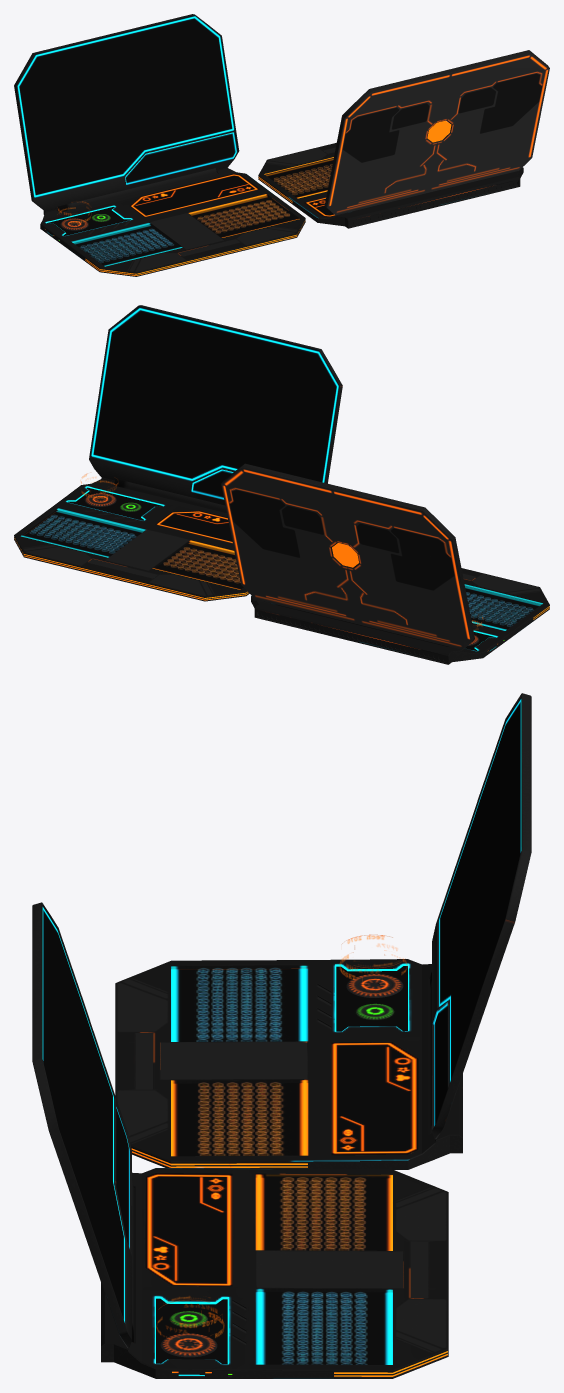
Rendered from lappy.glb.
The picture shows the model from 3 angles, top to bottom: view 1: azimuth 30°, elevation 25°; view 2: azimuth 150°, elevation 25°; view 3: azimuth 270°, elevation 25°; orthographic projection. The views are drawn at different scales.
Parts seen in each view (by area): view 1: R3D_Laptop2_pPlane4 (×2), polySurface13 (×2); view 2: R3D_Laptop2_pPlane4 (×2), polySurface13 (×2); view 3: polySurface13 (×2), R3D_Laptop2_pPlane4 (×2).
Part boxes in pixels (box(x1,y1,x2,y2)): R3D_Laptop2_pPlane4 (×2): box(14, 14, 549, 215); polySurface13 (×2): box(40, 143, 523, 276); R3D_Laptop2_pPlane4 (×2): box(89, 305, 474, 649); polySurface13 (×2): box(14, 477, 549, 664); polySurface13 (×2): box(101, 959, 462, 1378); R3D_Laptop2_pPlane4 (×2): box(32, 693, 531, 1348).
Size of the model in its own units: 0.8677 by 0.2946 by 0.4464.
Materials: 1 (1 with a texture image).
